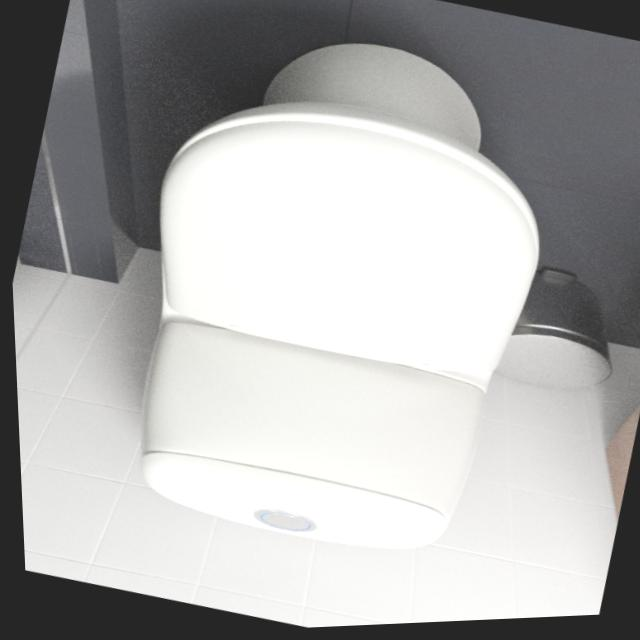toilet: (76, 0, 592, 591)
